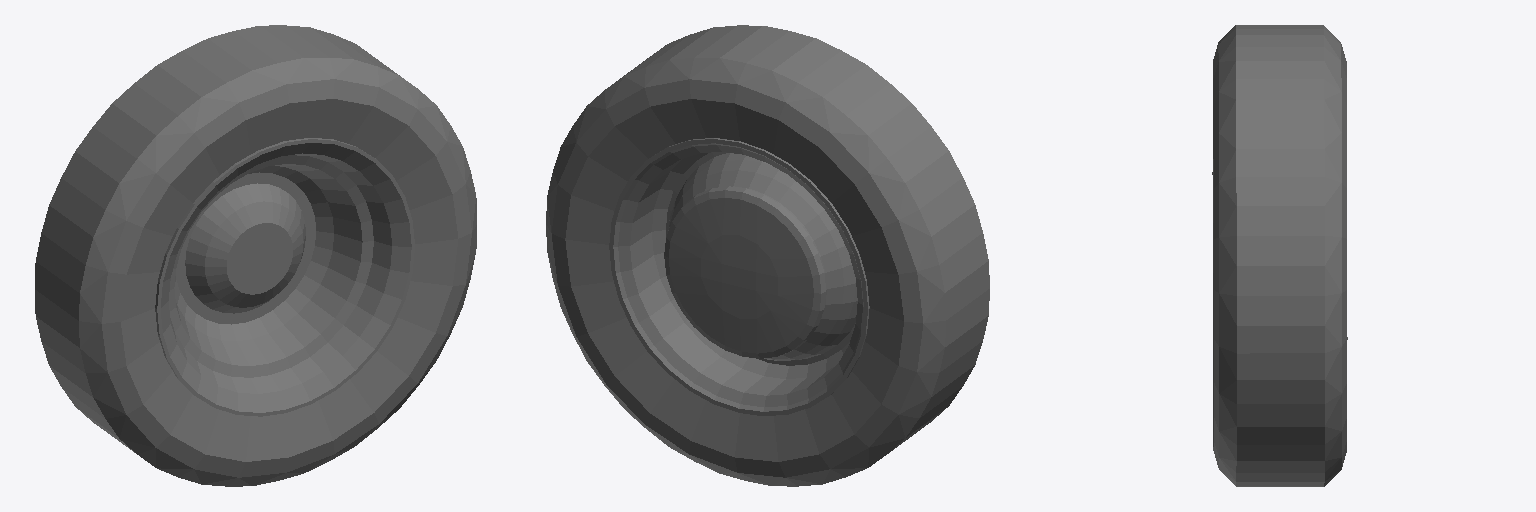
File: llanta_optimizada1.obj
3 views of the same model, side by side, from view 1: azimuth 30°, elevation 25°; view 2: azimuth 150°, elevation 25°; view 3: azimuth 270°, elevation 25° (orthographic).
Visible parts, largest first — view 1: LP.001_Mesh, pCylinder1_Mesh.001; view 2: LP.001_Mesh, pCylinder1_Mesh.001, pCylinder2_Mesh.003; view 3: LP.001_Mesh.
Boxes of the visible parts, <box> form: LP.001_Mesh: <box>35,25,476,486</box>; pCylinder1_Mesh.001: <box>155,138,414,416</box>; LP.001_Mesh: <box>546,25,989,486</box>; pCylinder1_Mesh.001: <box>609,138,869,415</box>; pCylinder2_Mesh.003: <box>664,186,825,358</box>; LP.001_Mesh: <box>1212,25,1347,486</box>.
Size of the model in its own units: 1.46 by 1.46 by 0.4277.